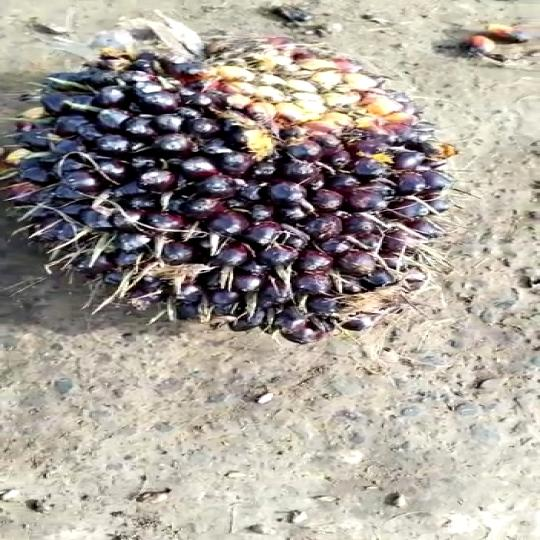mentah: (4, 19, 463, 356)
